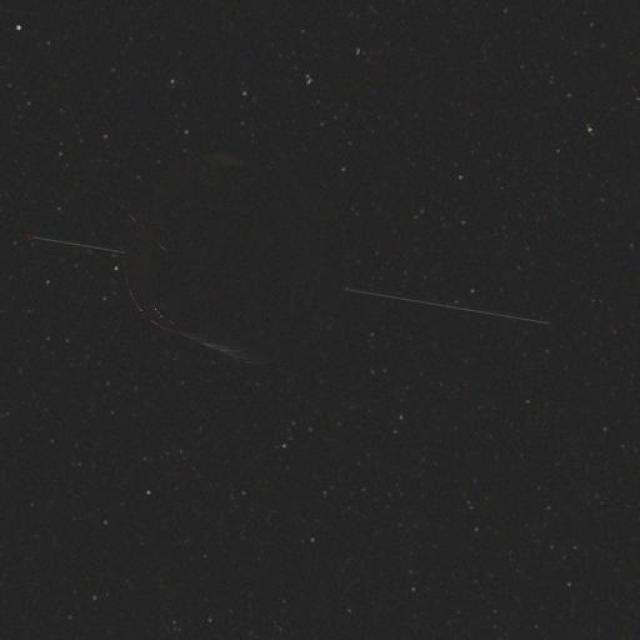double_start: (69, 160, 395, 359)
